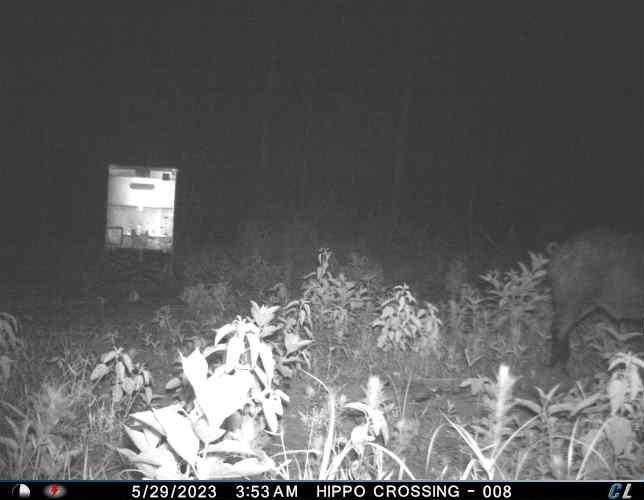Hog: (543, 223, 644, 375)
